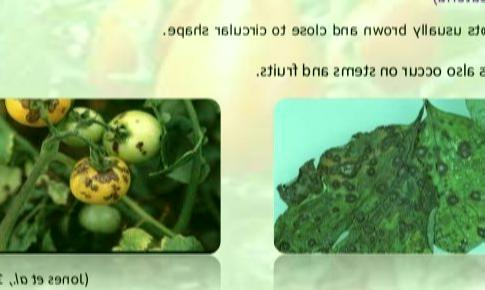Tomato leaf bacterial spot: (275, 106, 485, 253)
